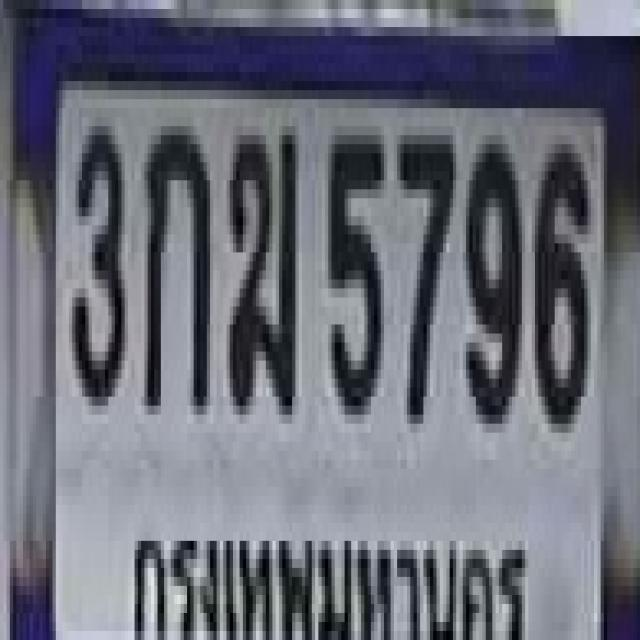-: (227, 126, 296, 406), (141, 117, 207, 406)
3: (69, 117, 121, 397)
5: (325, 126, 381, 406)
6: (532, 135, 584, 415)
7: (397, 126, 453, 415)
9: (462, 135, 518, 415)
BKK: (126, 505, 539, 640)
